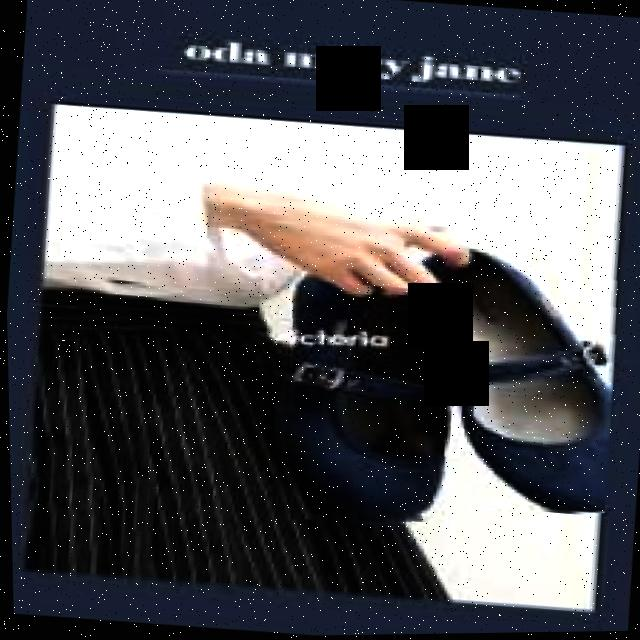shoe: (441, 256, 607, 514), (281, 282, 452, 523)
